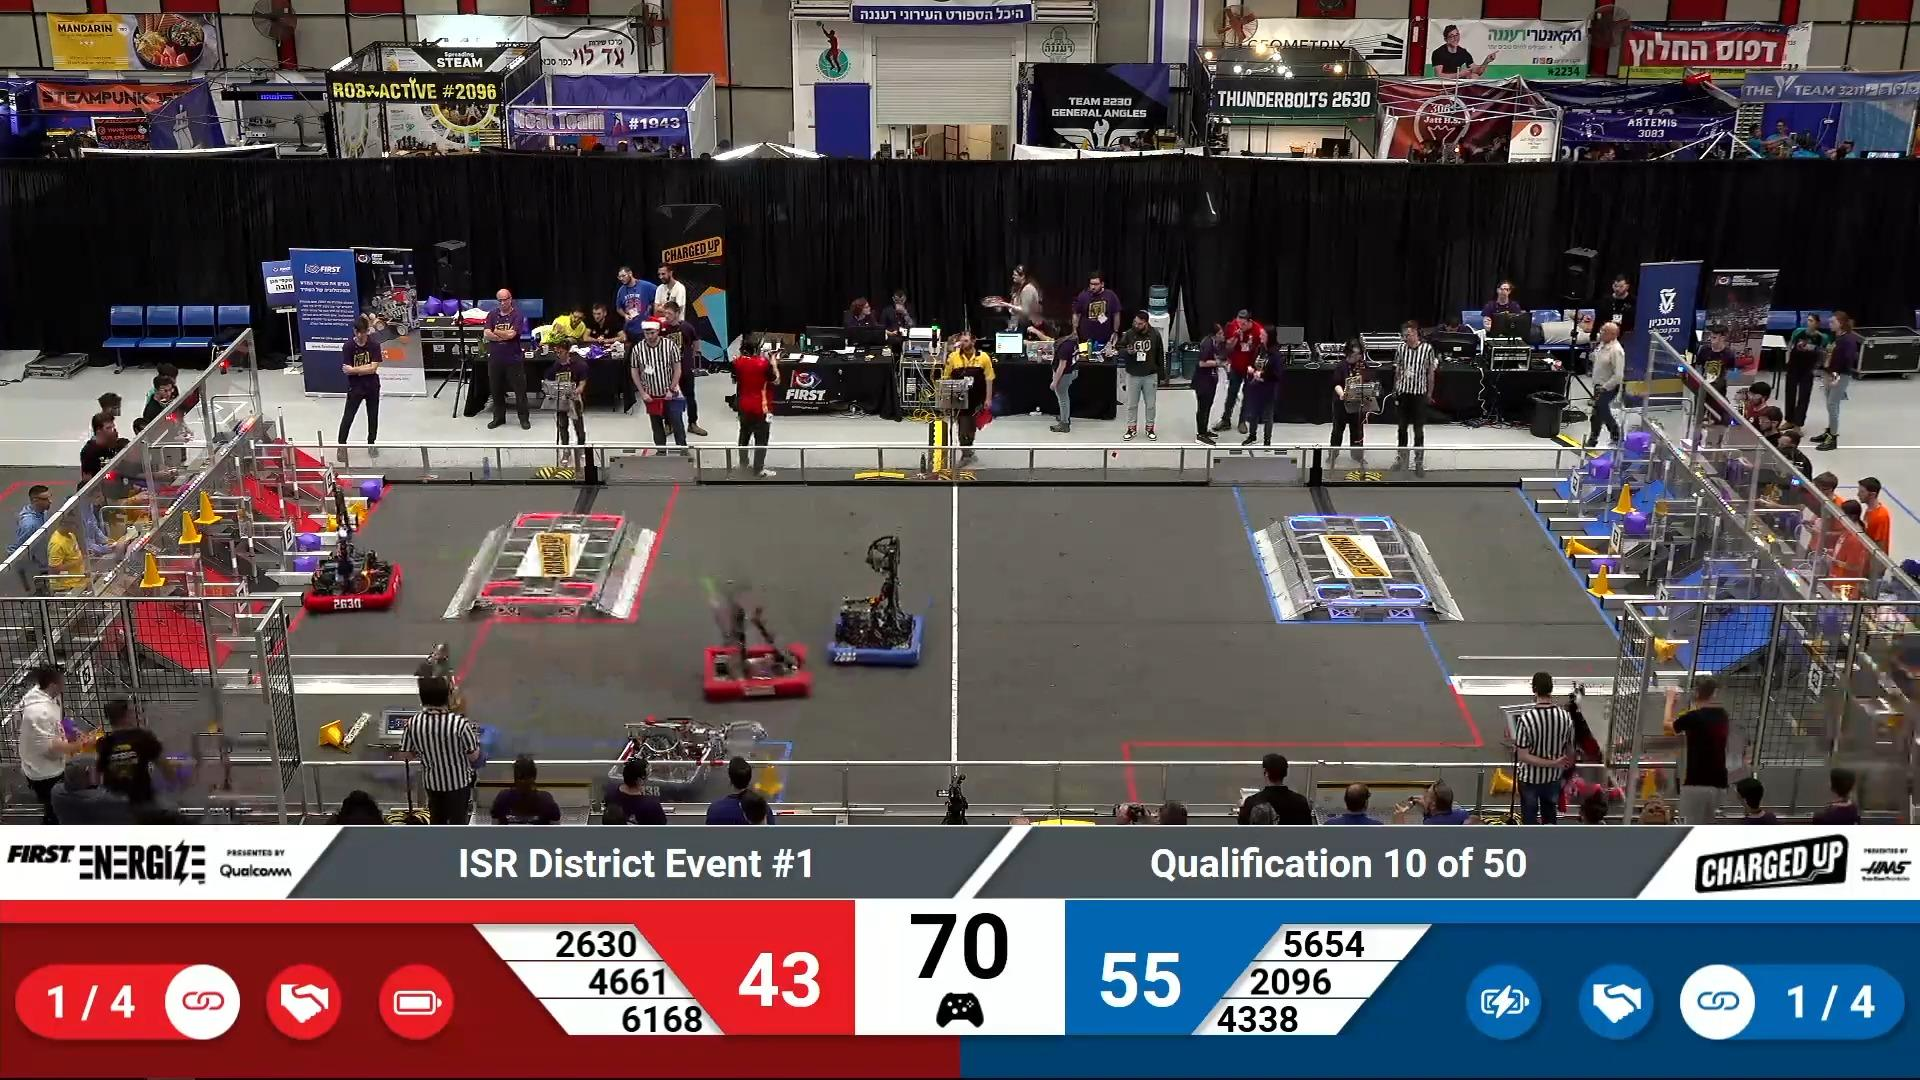robot: (1486, 678, 1607, 793), (820, 553, 930, 670), (364, 699, 505, 789), (604, 707, 724, 803), (299, 533, 409, 625), (694, 625, 819, 705)
